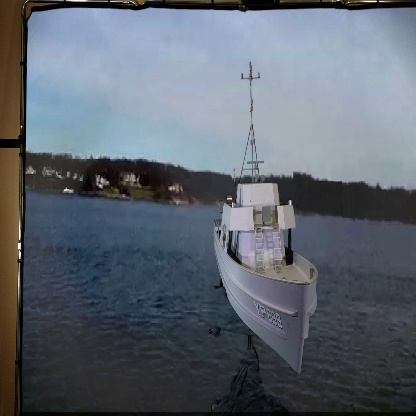YP689: (212, 59, 318, 372)
